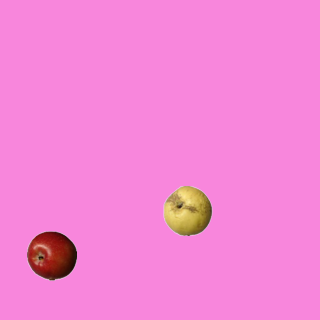Apple Braeburn: (26, 230, 76, 280)
Apple Golden 1: (162, 185, 212, 235)
